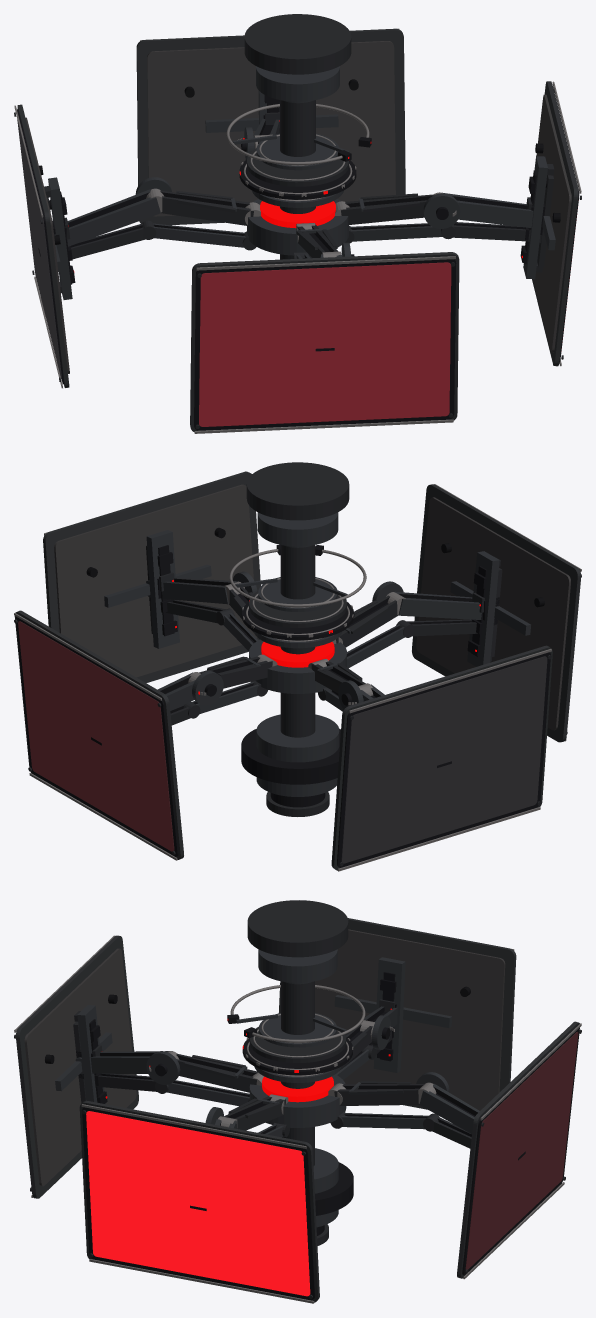
File: cardstreamCarousel.glb
3 views of the same model, one above another, from view 1: azimuth 30°, elevation 25°; view 2: azimuth 150°, elevation 25°; view 3: azimuth 270°, elevation 25° (orthographic). The views are drawn at different scales.
Parts seen in each view (by area): view 1: SCREEN_04_DISPLAY, SCREEN_02_REAR_SHELL, SCREEN_02_CHASSIS, CORE_CROWN, SCREEN_01_REAR_SHELL, SCREEN_04_BEZEL, SCREEN_04_CHASSIS, SCREEN_03_DISPLAY, ARM_03_OUTER_CHANNEL, SCREEN_01_CHASSIS, CORE_UPPER_ROTOR, CORE_SHAFT (+25 smaller); view 2: SCREEN_03_DISPLAY, SCREEN_01_REAR_SHELL, SCREEN_02_DISPLAY, SCREEN_04_REAR_SHELL, CORE_CROWN, SCREEN_01_CHASSIS, SCREEN_04_CHASSIS, CORE_SHAFT, CORE_LOWER_ROTOR.002, SCREEN_03_BEZEL, CORE_CABLE_COLLECTOR, SCREEN_03_CHASSIS (+33 smaller); view 3: SCREEN_01_DISPLAY, SCREEN_03_REAR_SHELL, SCREEN_02_DISPLAY, SCREEN_04_REAR_SHELL, CORE_CROWN, SCREEN_04_CHASSIS, SCREEN_03_CHASSIS, SCREEN_01_BEZEL, SCREEN_01_CHASSIS, CORE_SHAFT, CORE_UPPER_ROTOR, CORE_MID_ROTOR (+26 smaller).
Part boxes in pixels (x1,y1,x2,y2): SCREEN_04_DISPLAY: (199,262,451,426); SCREEN_02_REAR_SHELL: (147,41,395,216); SCREEN_02_CHASSIS: (136,28,405,225); CORE_CROWN: (244,14,351,74); SCREEN_01_REAR_SHELL: (533,94,571,352); SCREEN_04_BEZEL: (194,259,456,430); SCREEN_04_CHASSIS: (190,252,459,432); SCREEN_03_DISPLAY: (17,119,61,378); ARM_03_OUTER_CHANNEL: (67,189,160,246); SCREEN_01_CHASSIS: (532,81,578,366); CORE_UPPER_ROTOR: (256,66,339,101); CORE_SHAFT: (280,100,315,259); SCREEN_03_DISPLAY: (341,656,547,863); SCREEN_01_REAR_SHELL: (54,484,256,677); SCREEN_02_DISPLAY: (18,621,174,851); SCREEN_04_REAR_SHELL: (416,497,570,730); CORE_CROWN: (246,462,349,520); SCREEN_01_CHASSIS: (43,471,260,683); SCREEN_04_CHASSIS: (412,484,581,742); CORE_SHAFT: (280,545,315,737); CORE_LOWER_ROTOR.002: (256,714,339,762); SCREEN_03_BEZEL: (337,652,550,867); CORE_CABLE_COLLECTOR: (241,729,340,784); SCREEN_03_CHASSIS: (331,645,552,870); SCREEN_01_DISPLAY: (86,1111,310,1296); SCREEN_03_REAR_SHELL: (315,929,505,1110); SCREEN_02_DISPLAY: (465,1032,578,1269); SCREEN_04_REAR_SHELL: (24,948,136,1186); CORE_CROWN: (247,900,348,957); SCREEN_04_CHASSIS: (16,935,138,1198); SCREEN_03_CHASSIS: (279,918,516,1109); SCREEN_01_BEZEL: (82,1107,315,1300); SCREEN_01_CHASSIS: (79,1100,319,1302); CORE_SHAFT: (281,981,314,1165); CORE_UPPER_ROTOR: (258,949,337,982); CORE_MID_ROTOR: (249,1074,346,1127).
Size of the model in its own units: 10.59 by 6.47 by 10.59.
